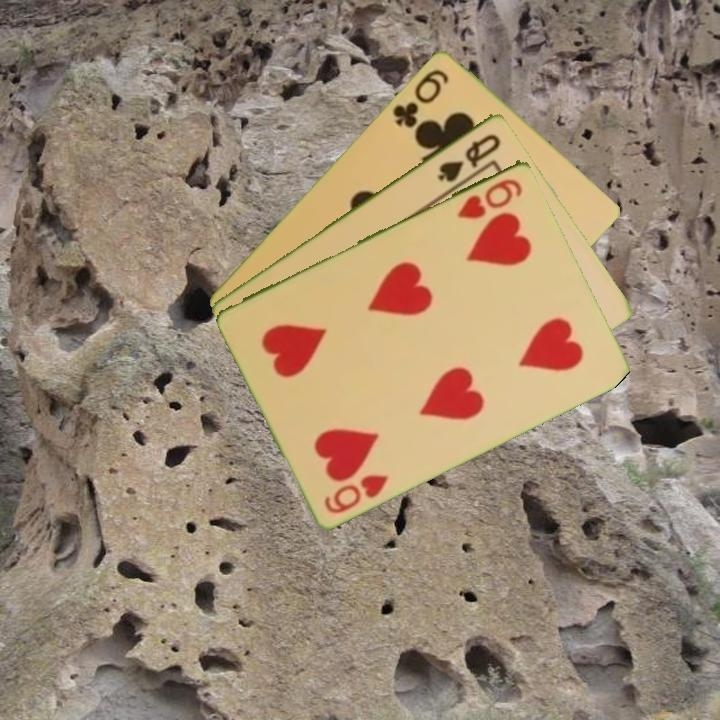6c: (389, 65, 452, 131)
6h: (453, 174, 526, 221), (320, 470, 392, 516)
Qs: (434, 129, 504, 185)
